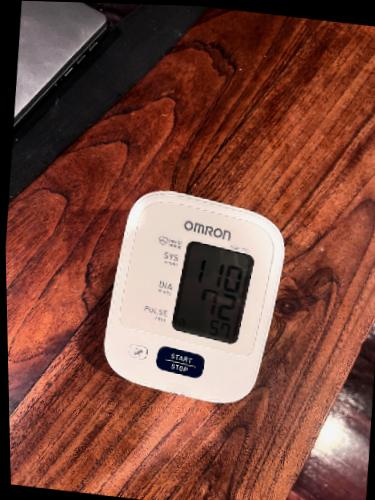bpm: (162, 239, 259, 347)
